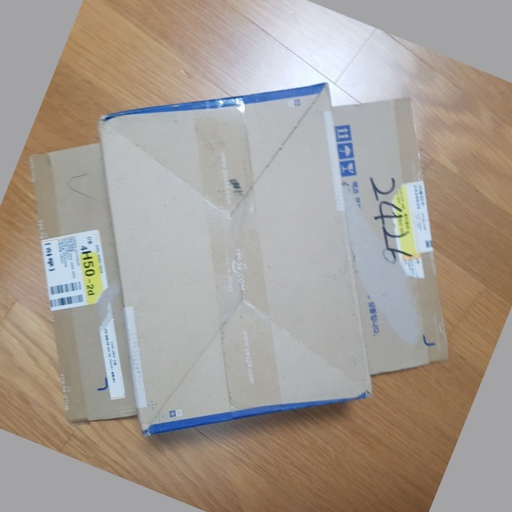Paper_0: (26, 81, 449, 433)
